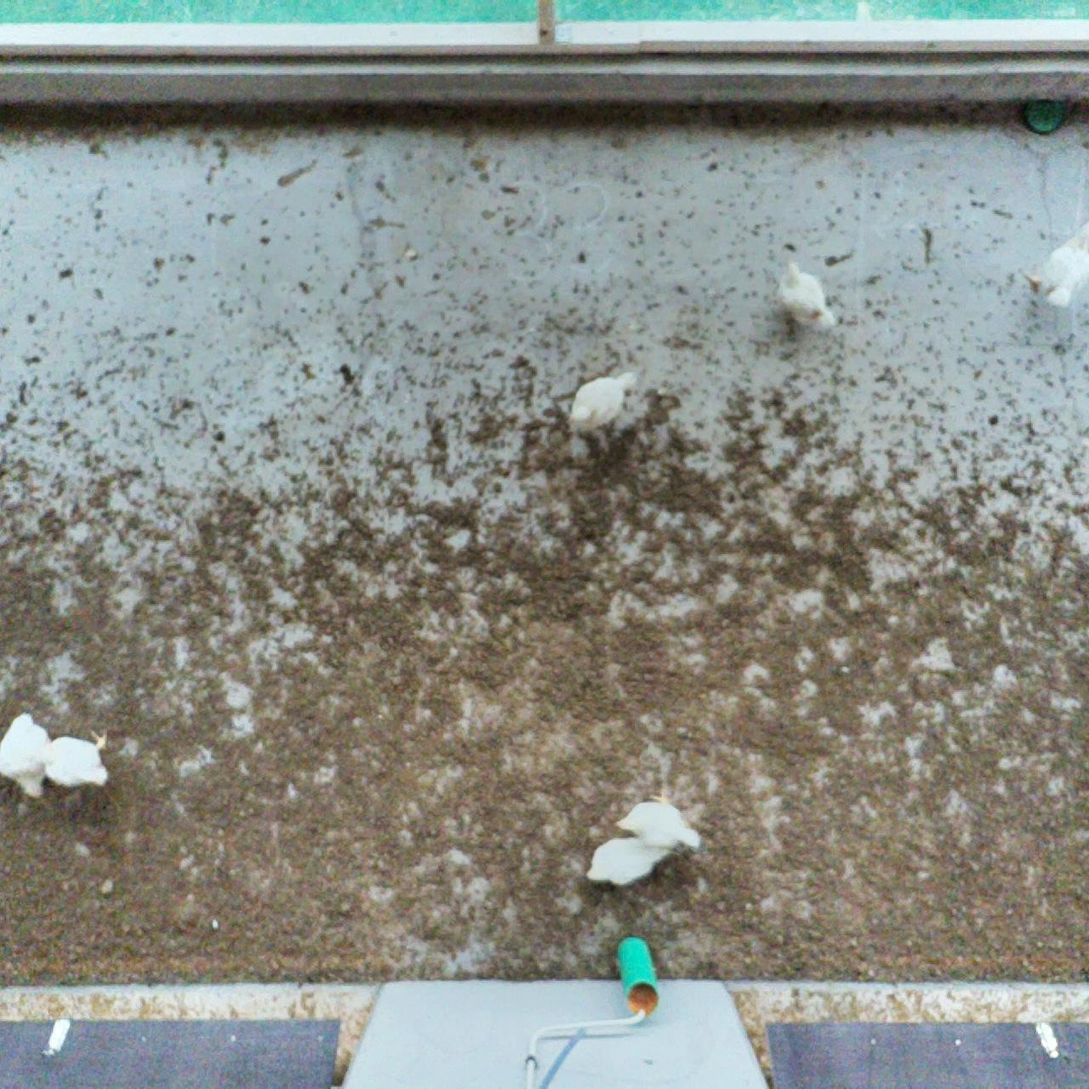chicken: (615, 790, 704, 848), (0, 714, 52, 800), (778, 256, 837, 331), (568, 370, 639, 432), (588, 835, 670, 888), (39, 729, 111, 785), (1026, 243, 1089, 307)
